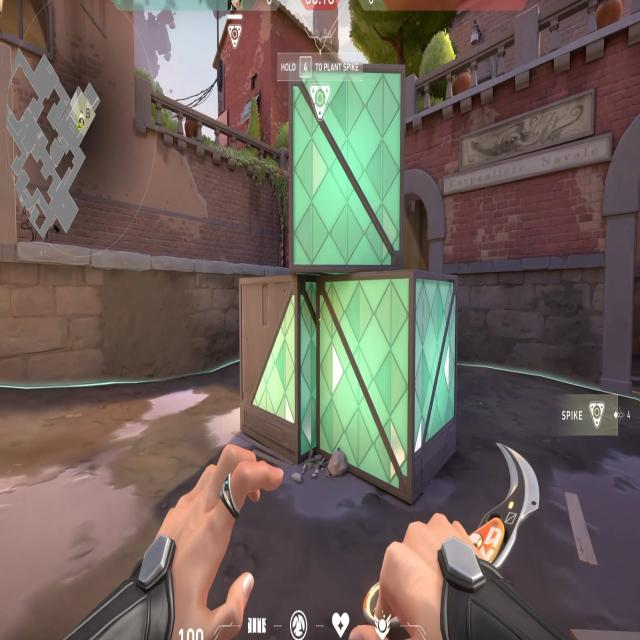B_Site_Box: (227, 14, 481, 503)
